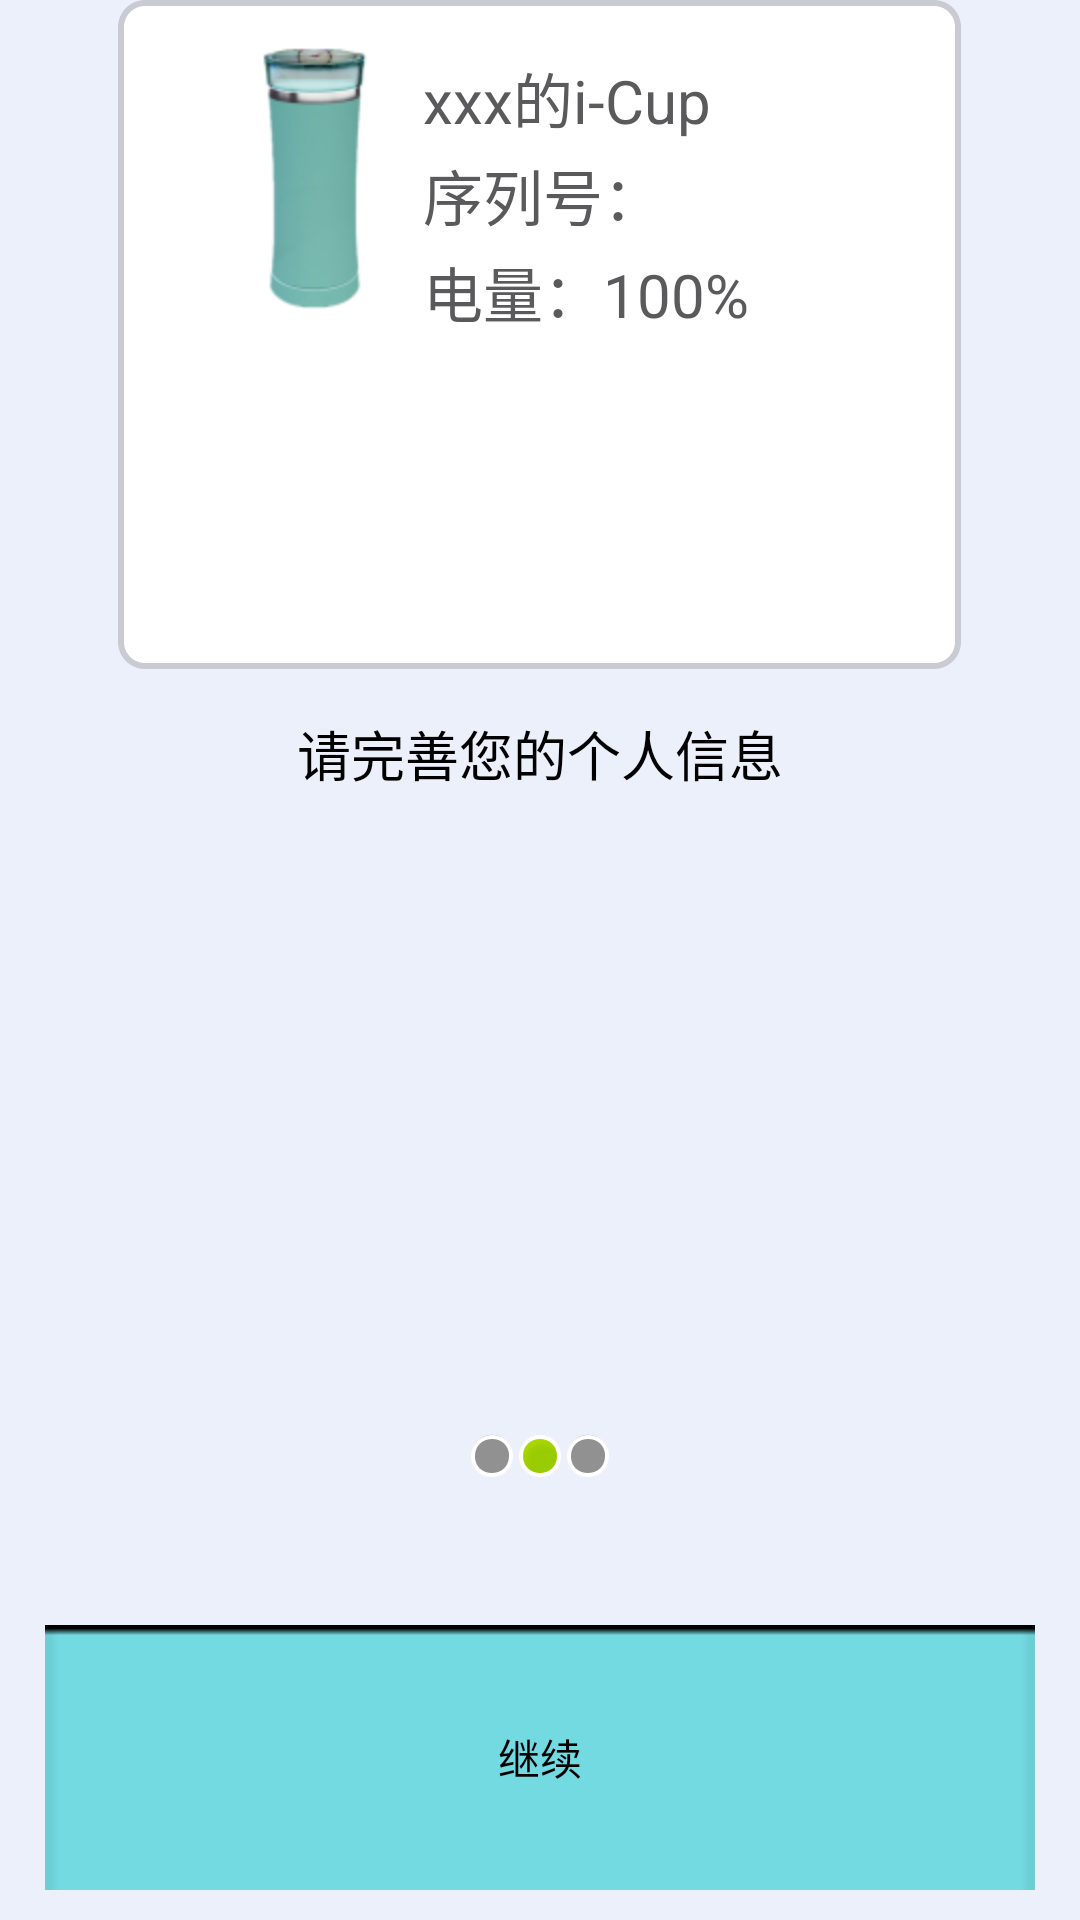

Icon click points for this 1080 x 1920 phone screenshot, format point (x, y):
presence invisible: point (492, 1454), point (588, 1454)
presence online: point (540, 1456)
